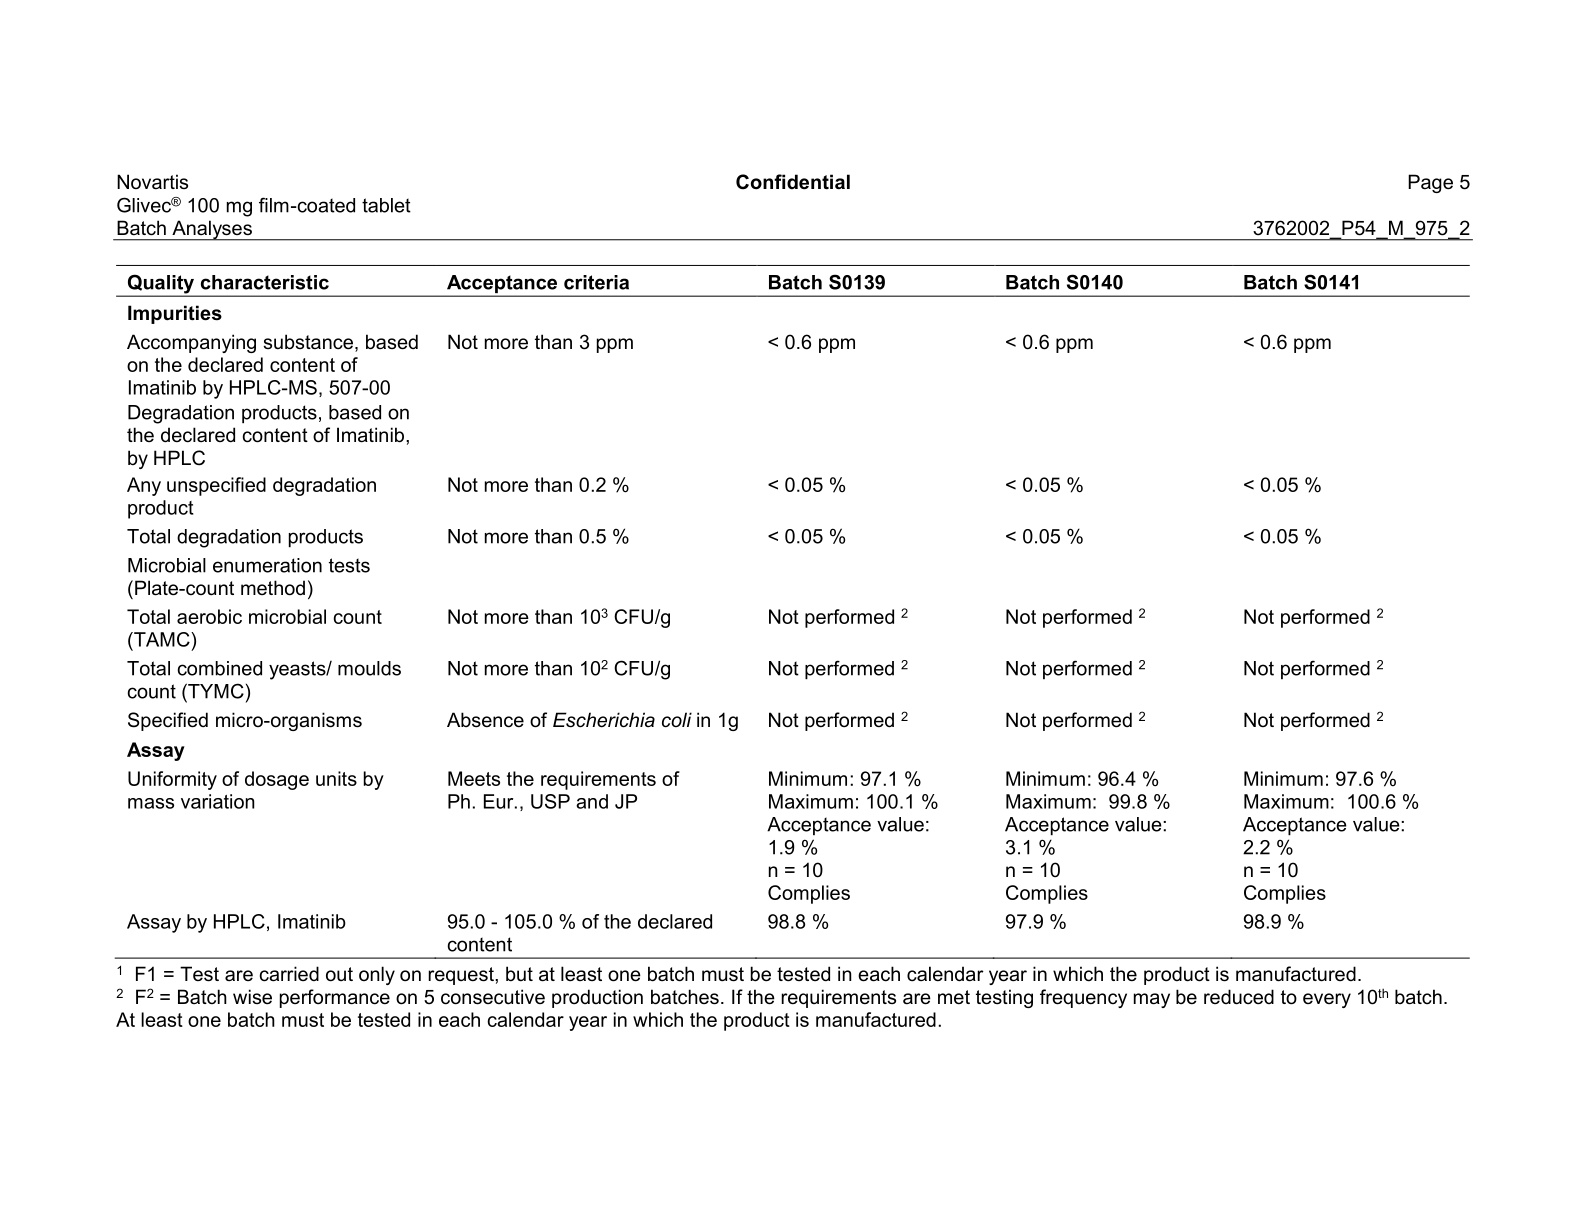partial_lined: (114, 264, 1471, 960)
